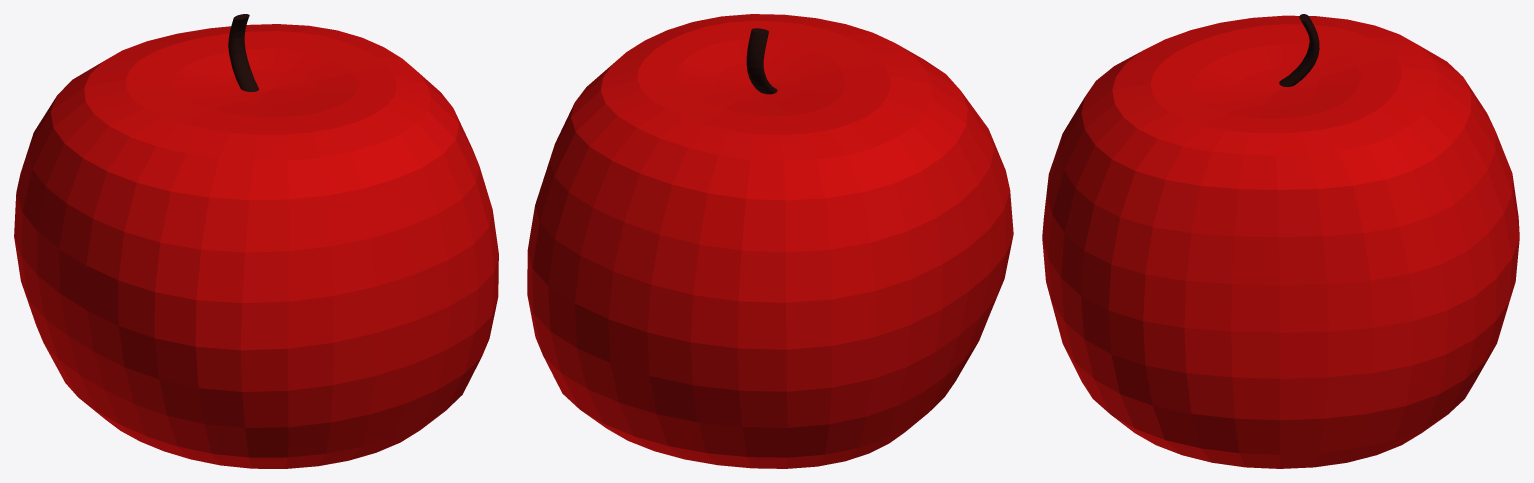
Rendered from apple.obj.
3 renders of one model, left to right at view 1: azimuth 30°, elevation 25°; view 2: azimuth 150°, elevation 25°; view 3: azimuth 270°, elevation 25°, orthographic.
Parts seen in each view (by area): view 1: Sphere, Cylinder; view 2: Sphere, Cylinder; view 3: Sphere, Cylinder.
Boxes of the visible parts, x1,y1,x2,y2 form: Sphere: [14, 24, 498, 468]; Cylinder: [228, 14, 258, 91]; Sphere: [527, 14, 1013, 468]; Cylinder: [746, 28, 777, 94]; Sphere: [1042, 15, 1519, 468]; Cylinder: [1279, 14, 1319, 86].
Bounding box in the file's own units: 1.83 × 1.68 × 1.91.
